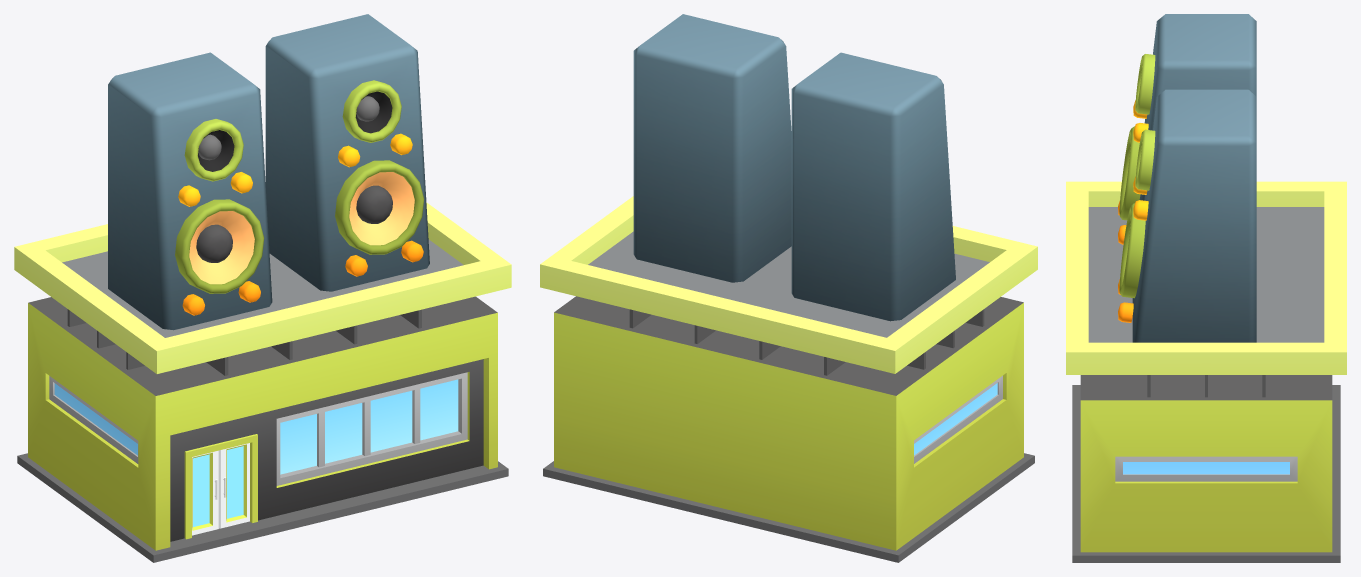
The model's file is city2-building-service-04.glb.
3 renders of one model, left to right at view 1: azimuth 30°, elevation 25°; view 2: azimuth 150°, elevation 25°; view 3: azimuth 270°, elevation 25°, orthographic.
Visible parts, largest first — view 1: Building_Service_04; view 2: Building_Service_04; view 3: Building_Service_04.
Part boxes in pixels (x1,y1,x2,y2): Building_Service_04: (14, 14, 511, 562); Building_Service_04: (540, 14, 1037, 562); Building_Service_04: (1066, 14, 1346, 562).
Bounding box in the file's own units: 9.86 × 10.86 × 6.86.
1 material, 1 textured.
